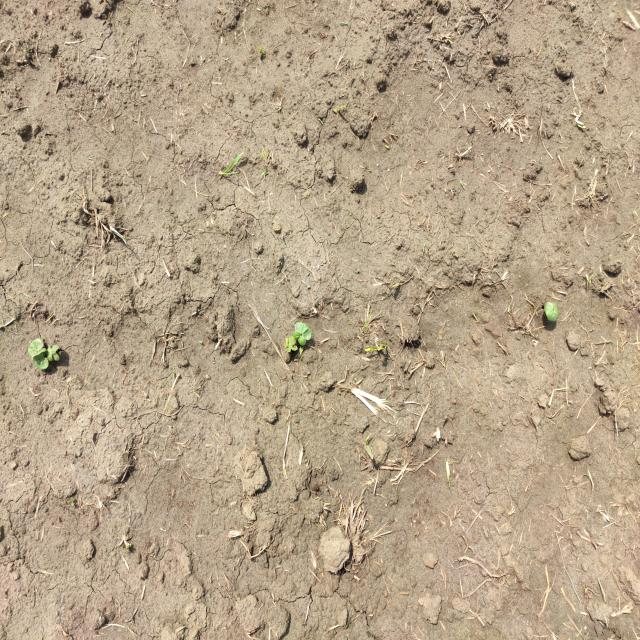seedling: (28, 338, 44, 358), (295, 322, 311, 340), (544, 302, 556, 322), (293, 331, 306, 345), (34, 358, 49, 370), (45, 345, 54, 362), (51, 344, 60, 361), (551, 302, 559, 318), (34, 349, 46, 359), (285, 336, 295, 347), (286, 345, 297, 352)
